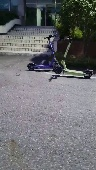beam: (25, 35, 62, 73)
gcooter: (56, 36, 96, 78)
